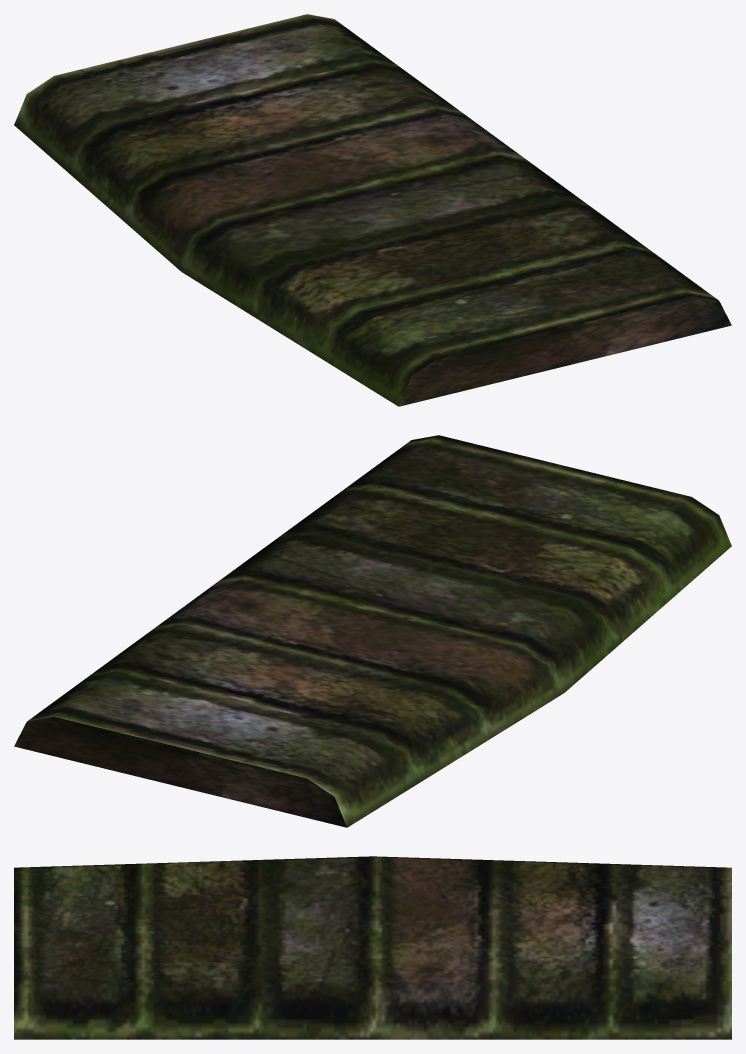
Rendered from brick_trim_2.DAE.
3 renders of one model, top to bottom at view 1: azimuth 30°, elevation 25°; view 2: azimuth 150°, elevation 25°; view 3: azimuth 270°, elevation 25°, orthographic. The views are drawn at different scales.
Parts seen in each view (by area): view 1: brick_trim_2; view 2: brick_trim_2; view 3: brick_trim_2.
Part boxes in pixels (x1,y1,x2,y2): brick_trim_2: (14, 14, 731, 406); brick_trim_2: (14, 435, 731, 827); brick_trim_2: (14, 856, 731, 1039).
Bounding box in the file's own units: 0.5372 × 1 × 0.0566.
